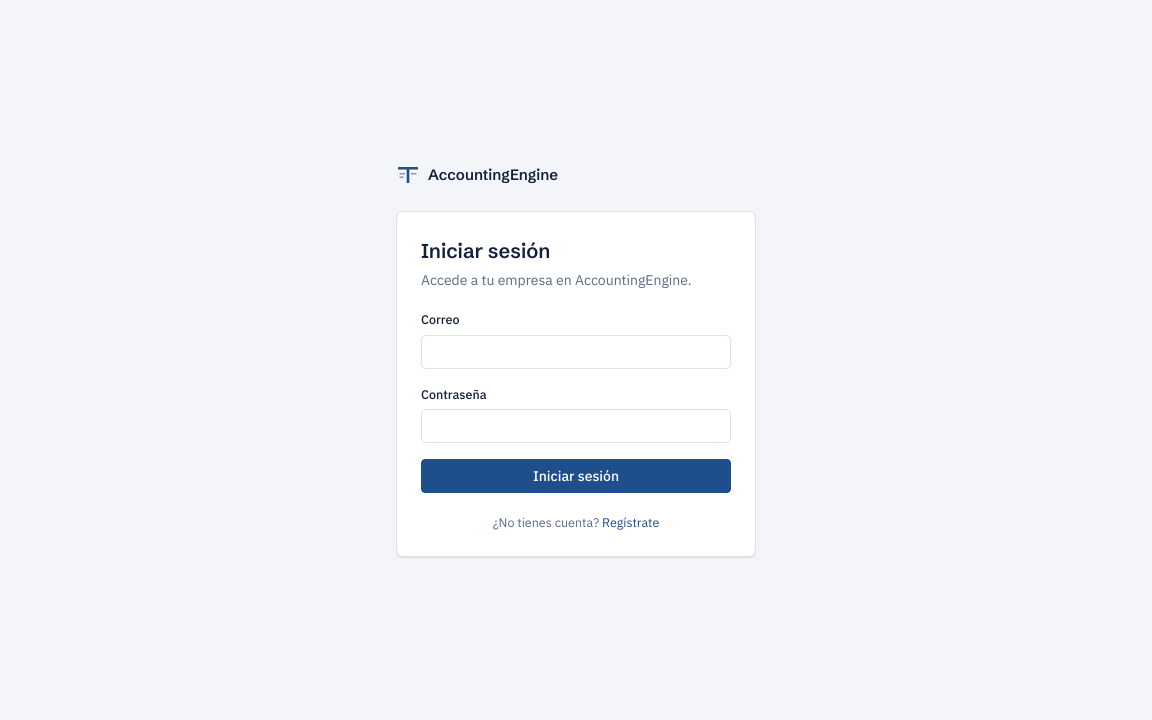
LoginPage › logs in and redirects to the panel
Type "owner@acme.test" into the field labelled "Correo" at [576, 352], box [421, 335, 731, 369]
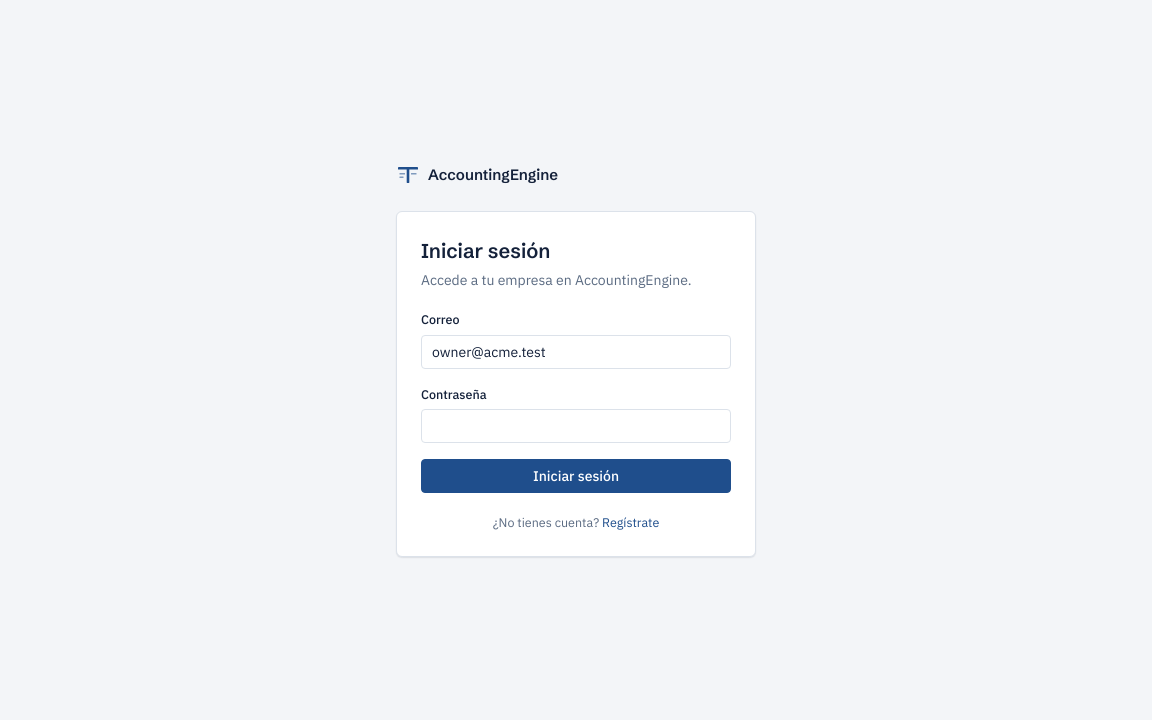
Type "s3cret" into the password field labelled "Contraseña" at [576, 426], box [421, 409, 731, 443]
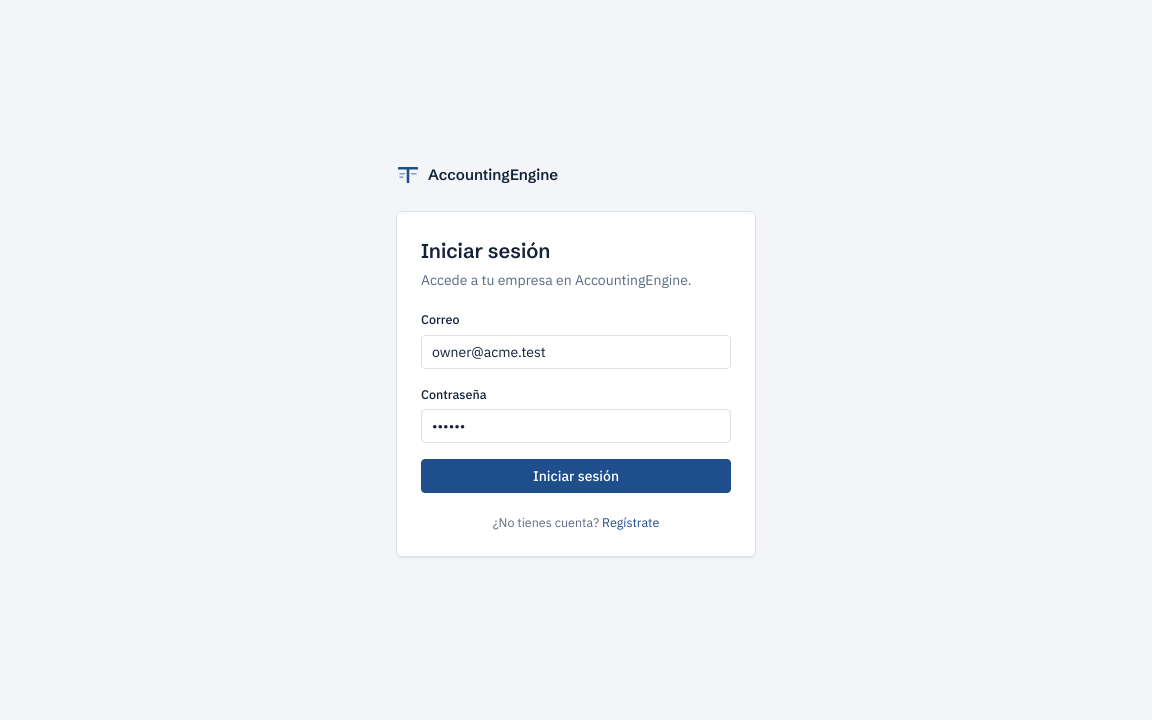
Click the button "Iniciar sesión" at [576, 476], box [421, 459, 731, 493]
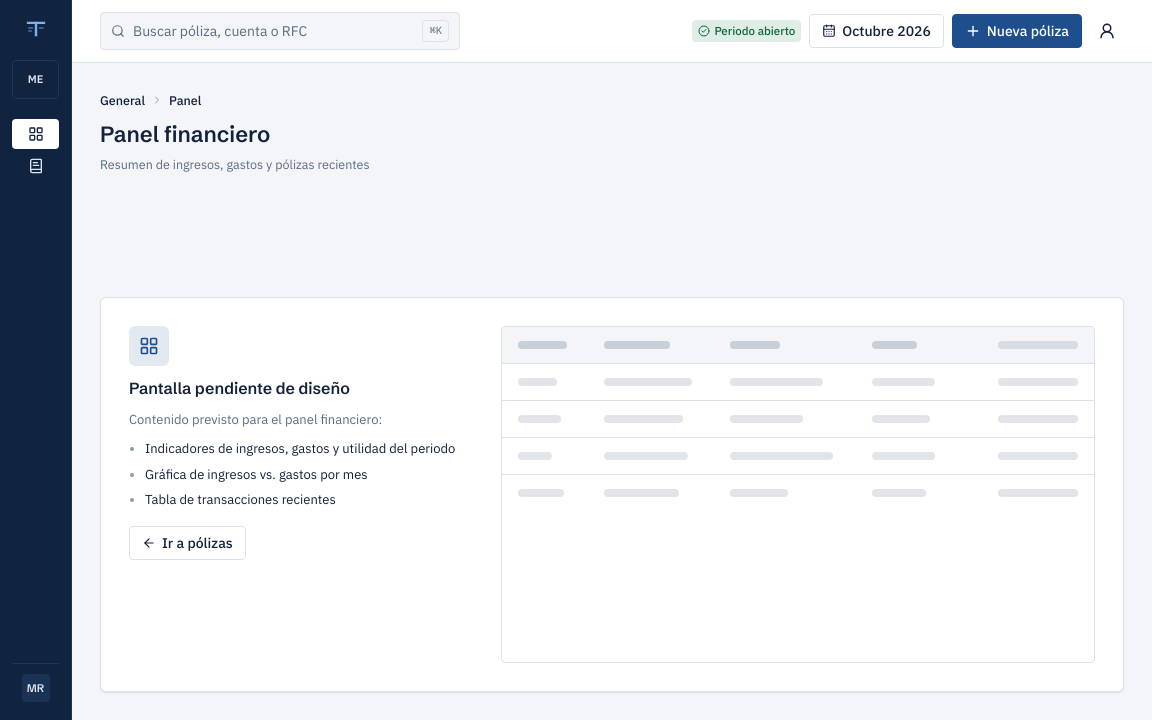
Expected: the heading "Panel financiero" is shown, [100, 120, 270, 148]
